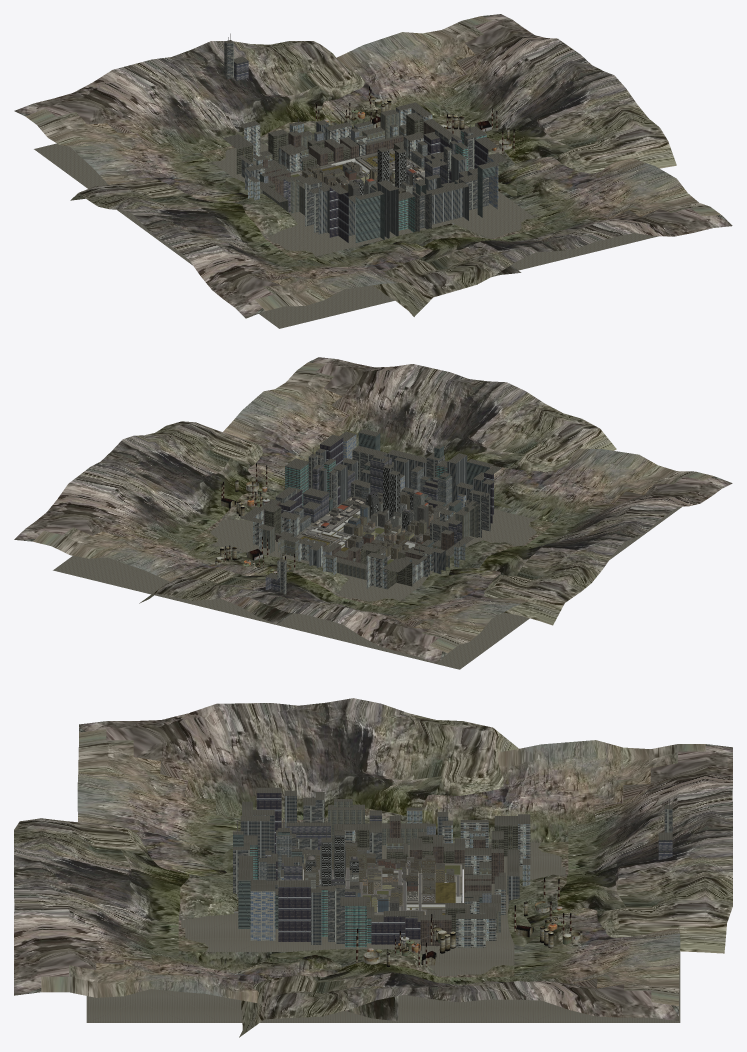
File: big_city.glb
3 views of the same model, one above another, from view 1: azimuth 30°, elevation 25°; view 2: azimuth 150°, elevation 25°; view 3: azimuth 270°, elevation 25° (orthographic). The views are drawn at different scales.
Visible parts, largest first — view 1: mesh; view 2: mesh; view 3: mesh.
Boxes of the visible parts, bbox=[...] form: mesh: bbox=[14, 14, 732, 328]; mesh: bbox=[14, 357, 732, 669]; mesh: bbox=[14, 698, 732, 1037].
Size of what is drawn, in the model's own units: 2990 by 434 by 3062.
98 materials, 97 textured.
